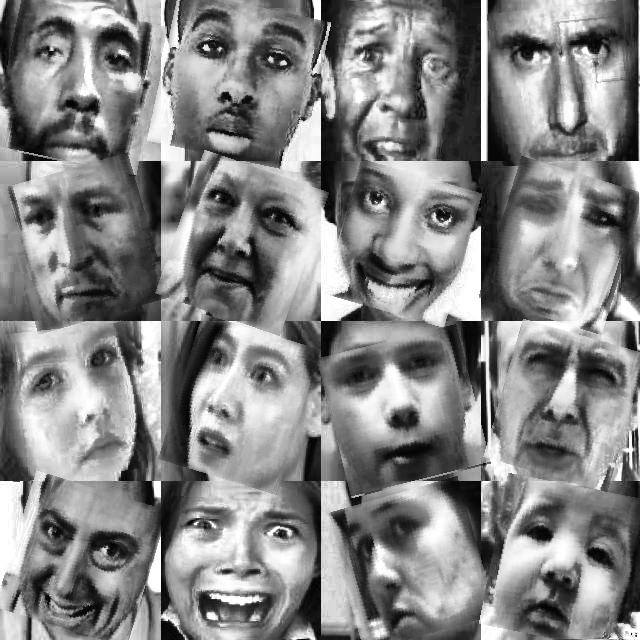angry: (492, 327, 638, 485), (491, 3, 635, 163)
fear: (333, 483, 488, 640), (168, 322, 312, 488), (169, 498, 313, 640)
happy: (165, 158, 319, 328), (3, 478, 159, 638), (326, 2, 476, 158), (332, 167, 474, 321)
neutral: (154, 0, 323, 165), (6, 160, 160, 327), (324, 331, 484, 491), (485, 479, 640, 640), (2, 325, 144, 479)
sad: (0, 2, 160, 169), (488, 164, 635, 328)
